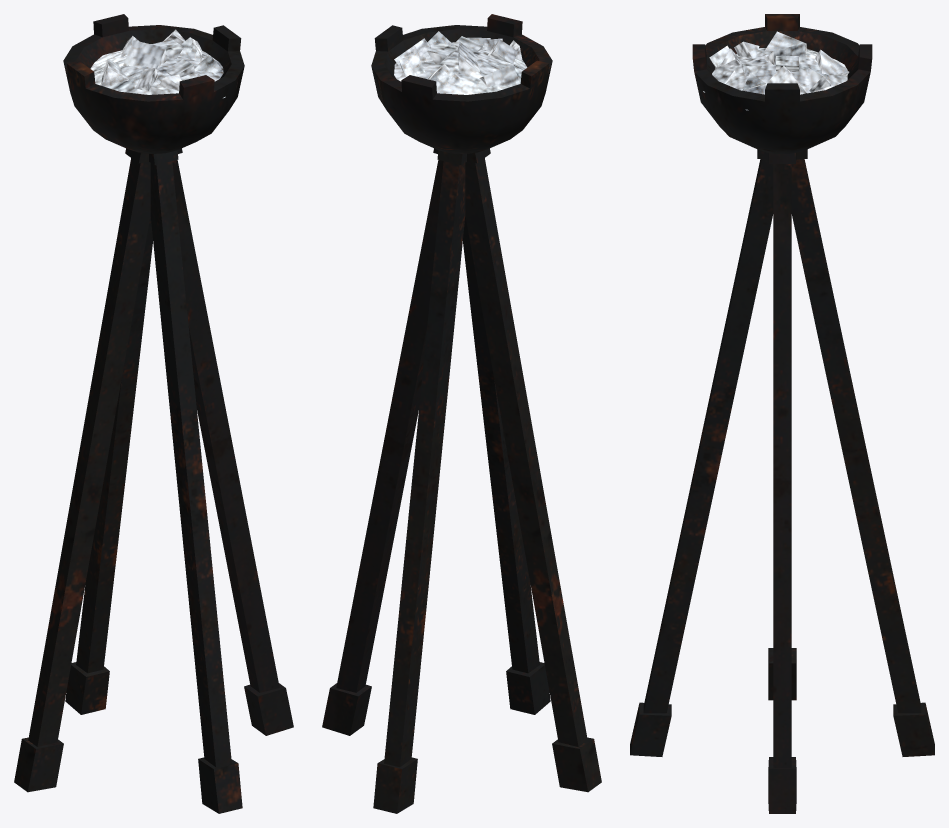
File: SM_Prop_Ground_Fire1.fbx
The picture shows the model from 3 angles, left to right: view 1: azimuth 30°, elevation 25°; view 2: azimuth 150°, elevation 25°; view 3: azimuth 270°, elevation 25°; orthographic projection.
Visible parts, largest first — view 1: SM_Prop_Ground_Fire1_LOD0; view 2: SM_Prop_Ground_Fire1_LOD0; view 3: SM_Prop_Ground_Fire1_LOD0.
Part boxes in pixels (box(x1,y1,x2,y2)): SM_Prop_Ground_Fire1_LOD0: box(14, 14, 293, 813); SM_Prop_Ground_Fire1_LOD0: box(322, 14, 601, 813); SM_Prop_Ground_Fire1_LOD0: box(630, 14, 934, 813).
Bounding box in the file's own units: 71.03 × 71.03 × 181.
Materials: 2 (2 with a texture image).
